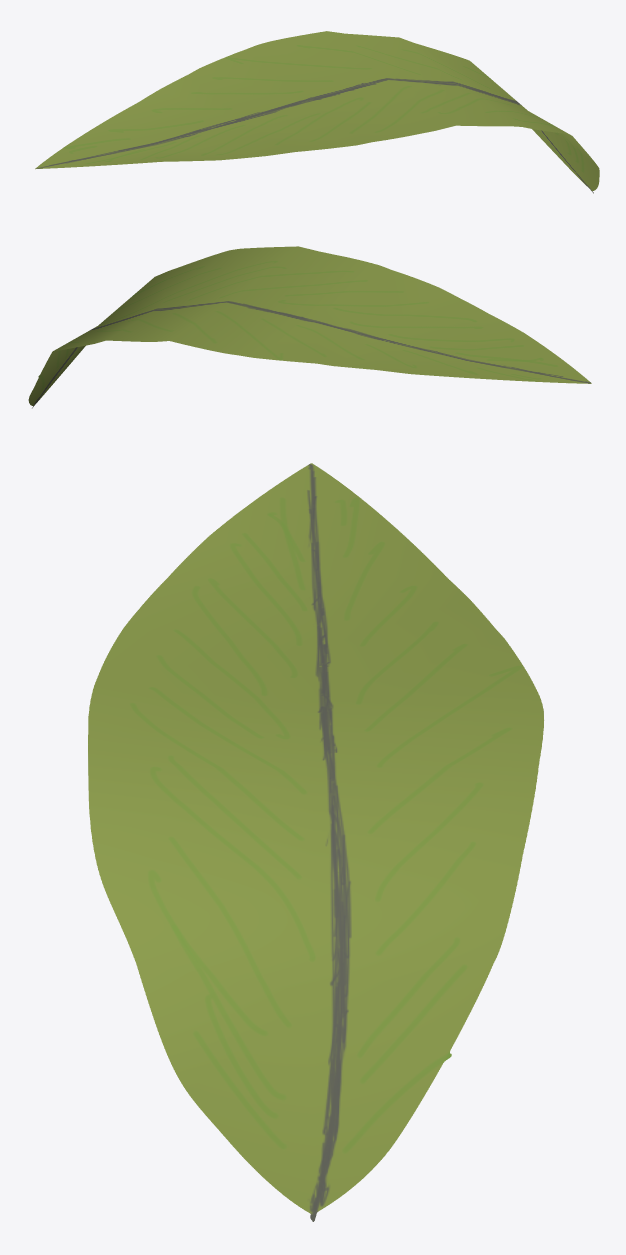
The model's file is Leaf2.fbx.
The picture shows the model from 3 angles, top to bottom: view 1: azimuth 30°, elevation 25°; view 2: azimuth 150°, elevation 25°; view 3: azimuth 270°, elevation 25°; orthographic projection. The views are drawn at different scales.
Parts seen in each view (by area): view 1: Leaf2; view 2: Leaf2; view 3: Leaf2.
Boxes of the visible parts, <box> form: Leaf2: <box>35,31,599,193</box>; Leaf2: <box>28,246,591,408</box>; Leaf2: <box>88,463,544,1221</box>.
Bounding box in the file's own units: 1.45 × 0.4321 × 0.7323.
1 material, 1 textured.
